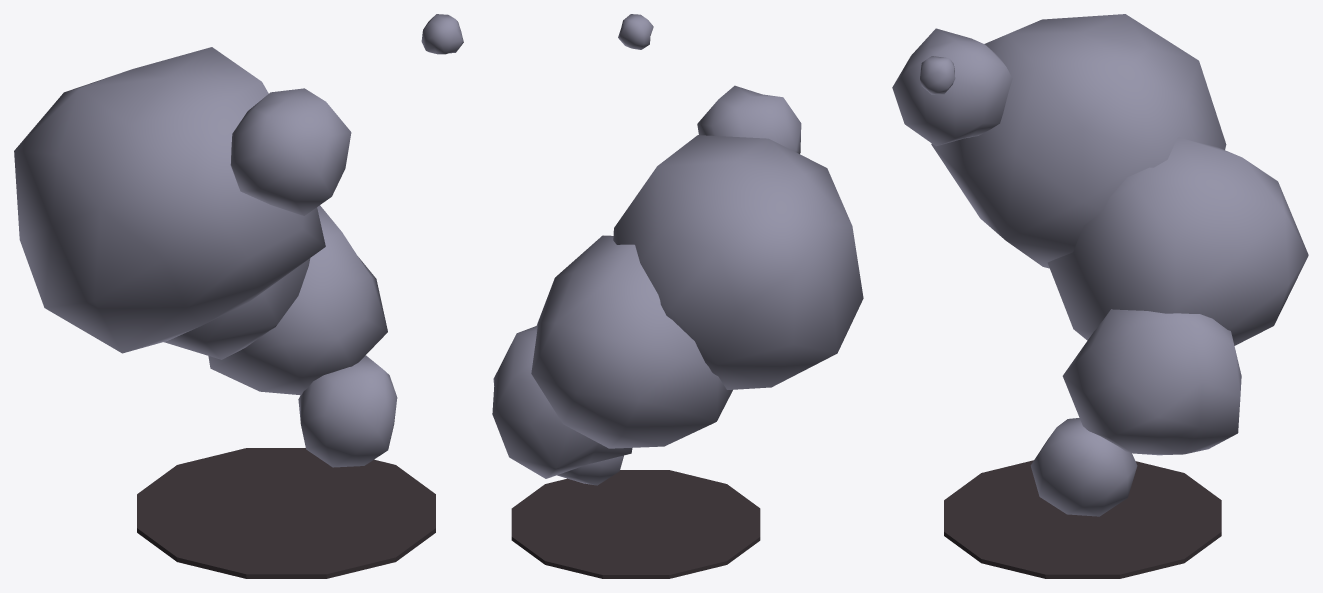
Rendered from smoke-puff-pixor.glb.
3 renders of one model, left to right at view 1: azimuth 30°, elevation 25°; view 2: azimuth 150°, elevation 25°; view 3: azimuth 270°, elevation 25°, orthographic. The views are drawn at different scales.
Parts seen in each view (by area): view 1: Smoke, Smoke scorch; view 2: Smoke, Smoke scorch; view 3: Smoke, Smoke scorch.
Part boxes in pixels (bbox=[...]): Smoke: bbox=[14, 14, 463, 467]; Smoke scorch: bbox=[137, 448, 435, 578]; Smoke: bbox=[492, 14, 863, 485]; Smoke scorch: bbox=[511, 470, 760, 578]; Smoke: bbox=[892, 14, 1308, 516]; Smoke scorch: bbox=[944, 460, 1221, 578].
Size of the model in its own units: 0.8346 by 1.15 by 0.8696.
